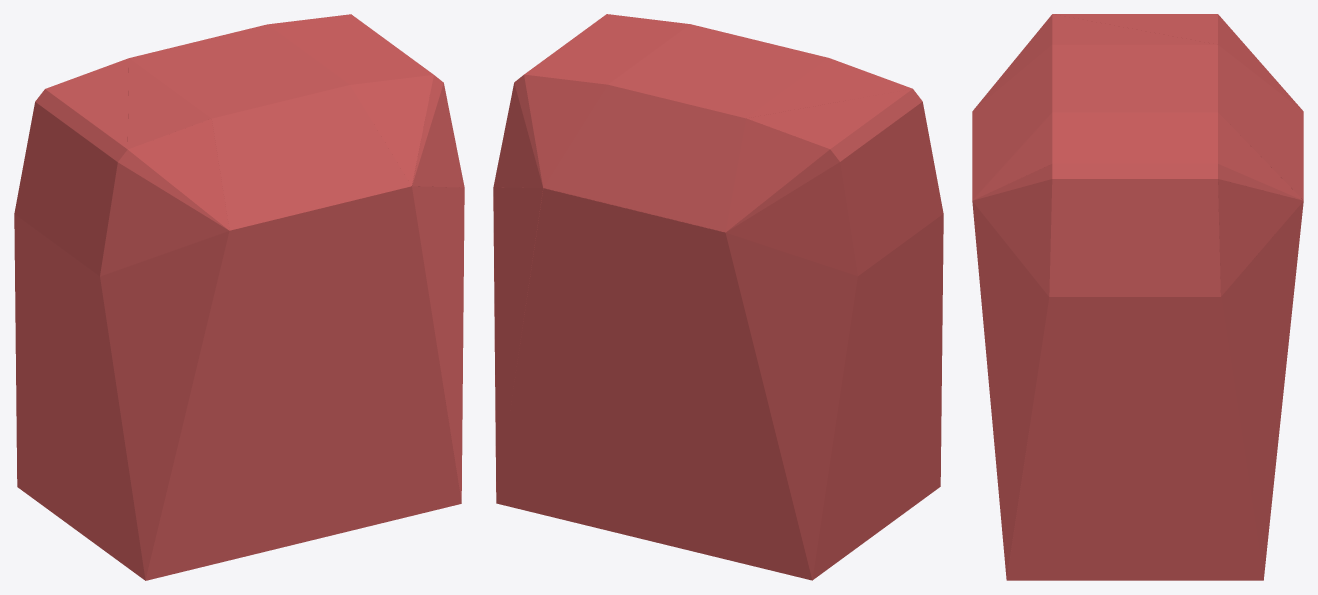
The model's file is dosune.glb.
3 views of the same model, side by side, from view 1: azimuth 30°, elevation 25°; view 2: azimuth 150°, elevation 25°; view 3: azimuth 270°, elevation 25° (orthographic).
Parts seen in each view (by area): view 1: dosune_col; view 2: dosune_col; view 3: dosune_col.
Part boxes in pixels (box(x1,y1,x2,y2)): dosune_col: box(14, 14, 464, 580); dosune_col: box(493, 14, 943, 580); dosune_col: box(972, 14, 1303, 580).
Size of the model in its own units: 3.69 by 4.1 by 2.9.
